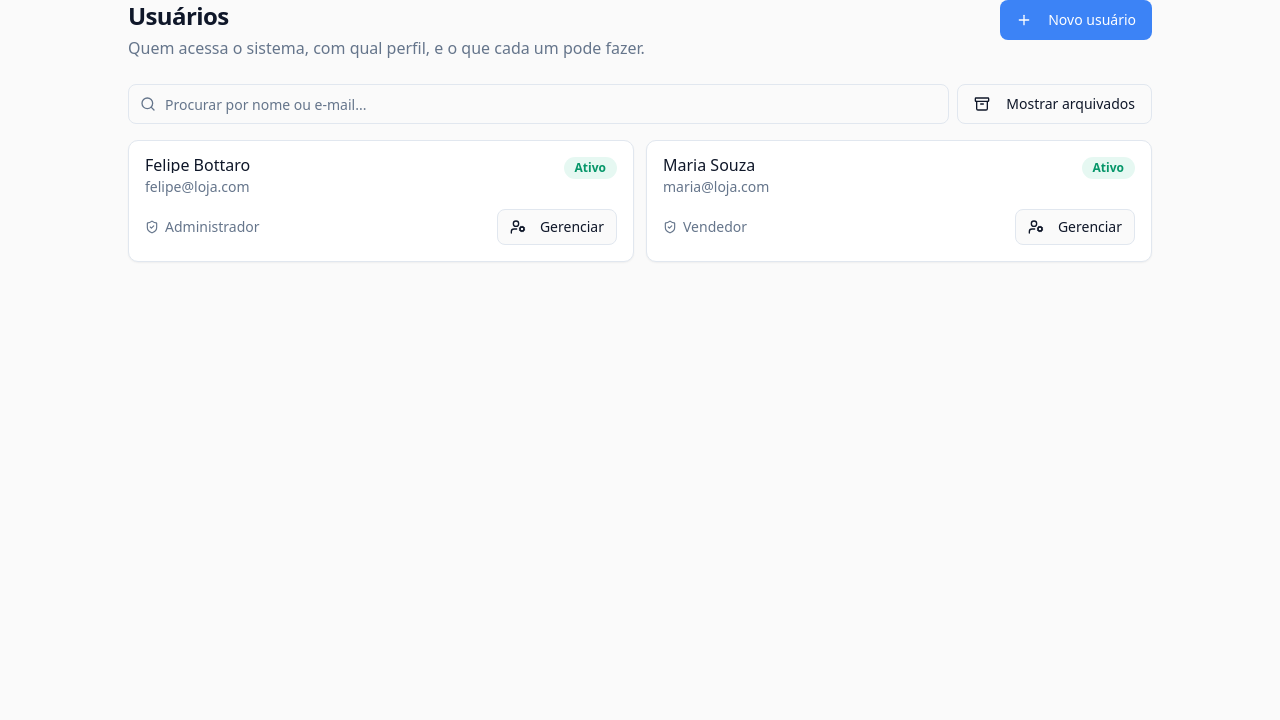
Tela de Usuários por perfil › libera o seletor de Perfil para quem PODE trocar perfil
Click the button "Gerenciar" in the row of "Administrador".
click(557, 227)  # box top-left (497, 209), bottom-right (617, 245)
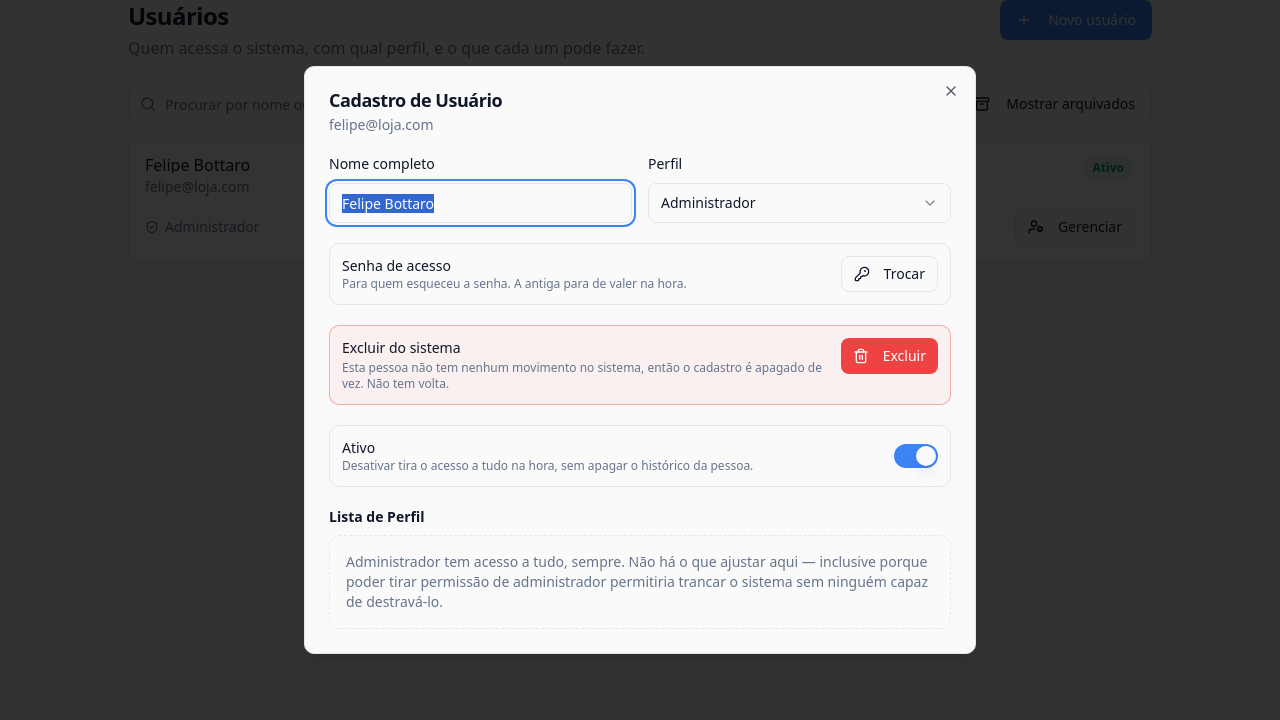
Expected: the dropdown is enabled, top-left (648, 183), bottom-right (951, 223)
